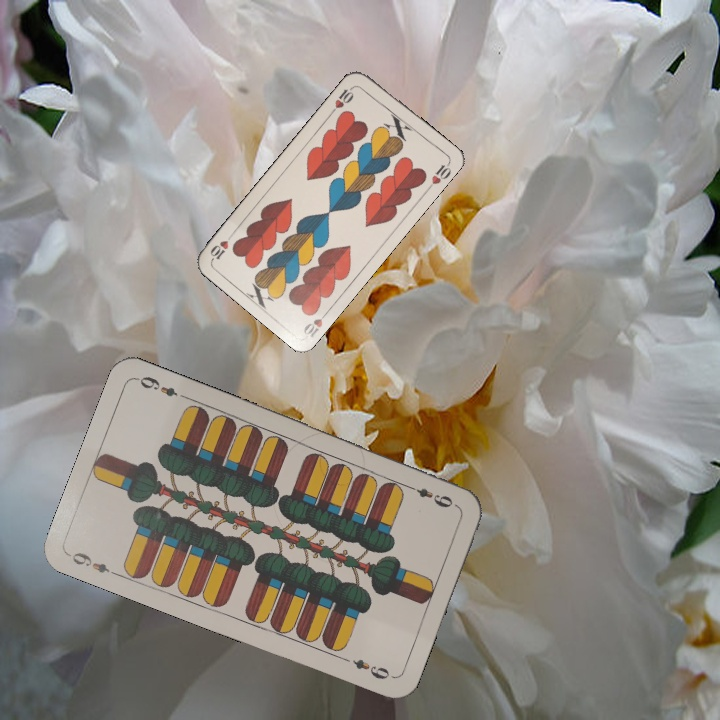E9: (65, 548, 122, 579), (403, 481, 460, 511)
H10: (299, 306, 332, 340), (327, 82, 358, 116)
